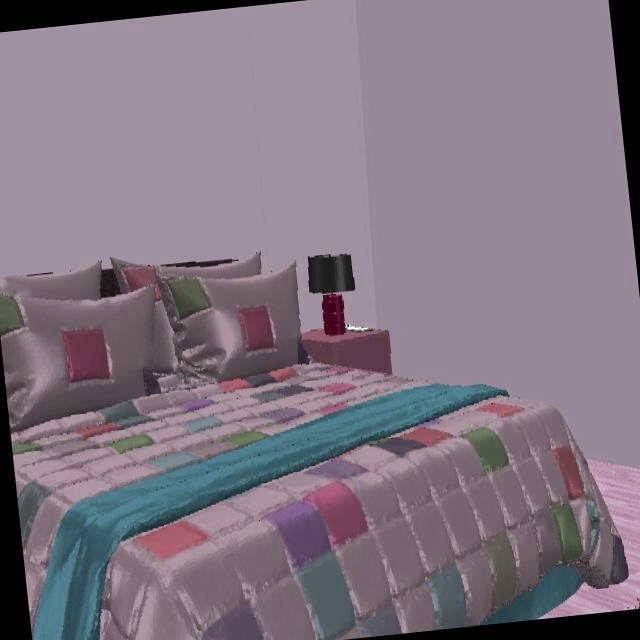bed: (10, 362, 631, 640)
book: (347, 325, 373, 331)
lamp: (307, 255, 355, 336)
nighttable: (300, 327, 392, 376)
pillow: (0, 284, 161, 433), (154, 261, 308, 382), (0, 260, 103, 300), (161, 252, 261, 279), (153, 299, 178, 373), (110, 258, 156, 294)
